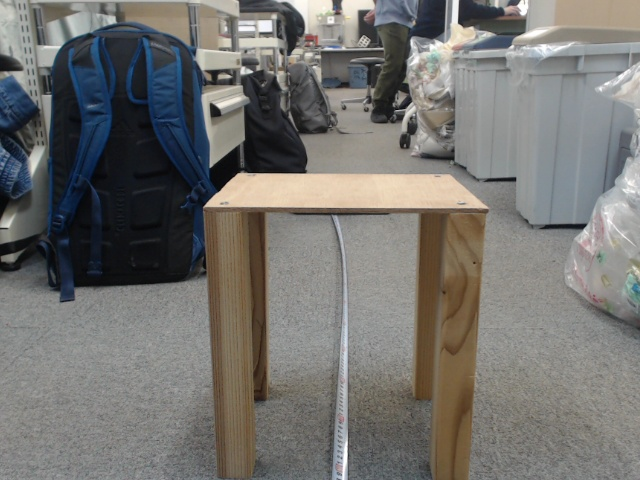desk: (259, 132, 485, 384)
